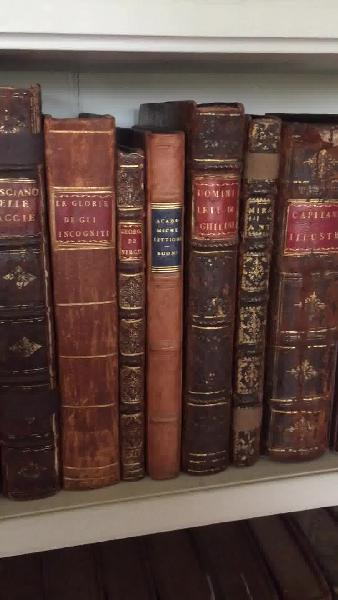Aa6-33: (39, 117, 117, 484)
Aa6-34: (110, 145, 149, 489)
Aa6-35: (147, 128, 186, 478)
Aa6-36: (186, 99, 251, 481)
Aa6-37: (241, 110, 278, 462)
Aa6-38: (277, 117, 338, 457)
